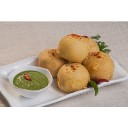bonda: (81, 50, 116, 79), (58, 33, 91, 62), (57, 62, 90, 91), (38, 49, 64, 72)
